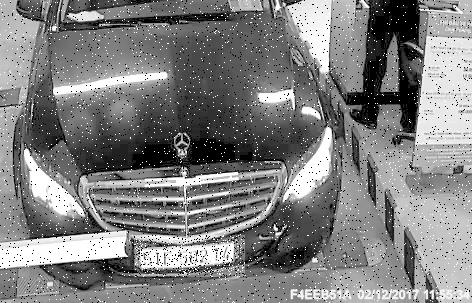License-plate: (135, 236, 246, 278)
